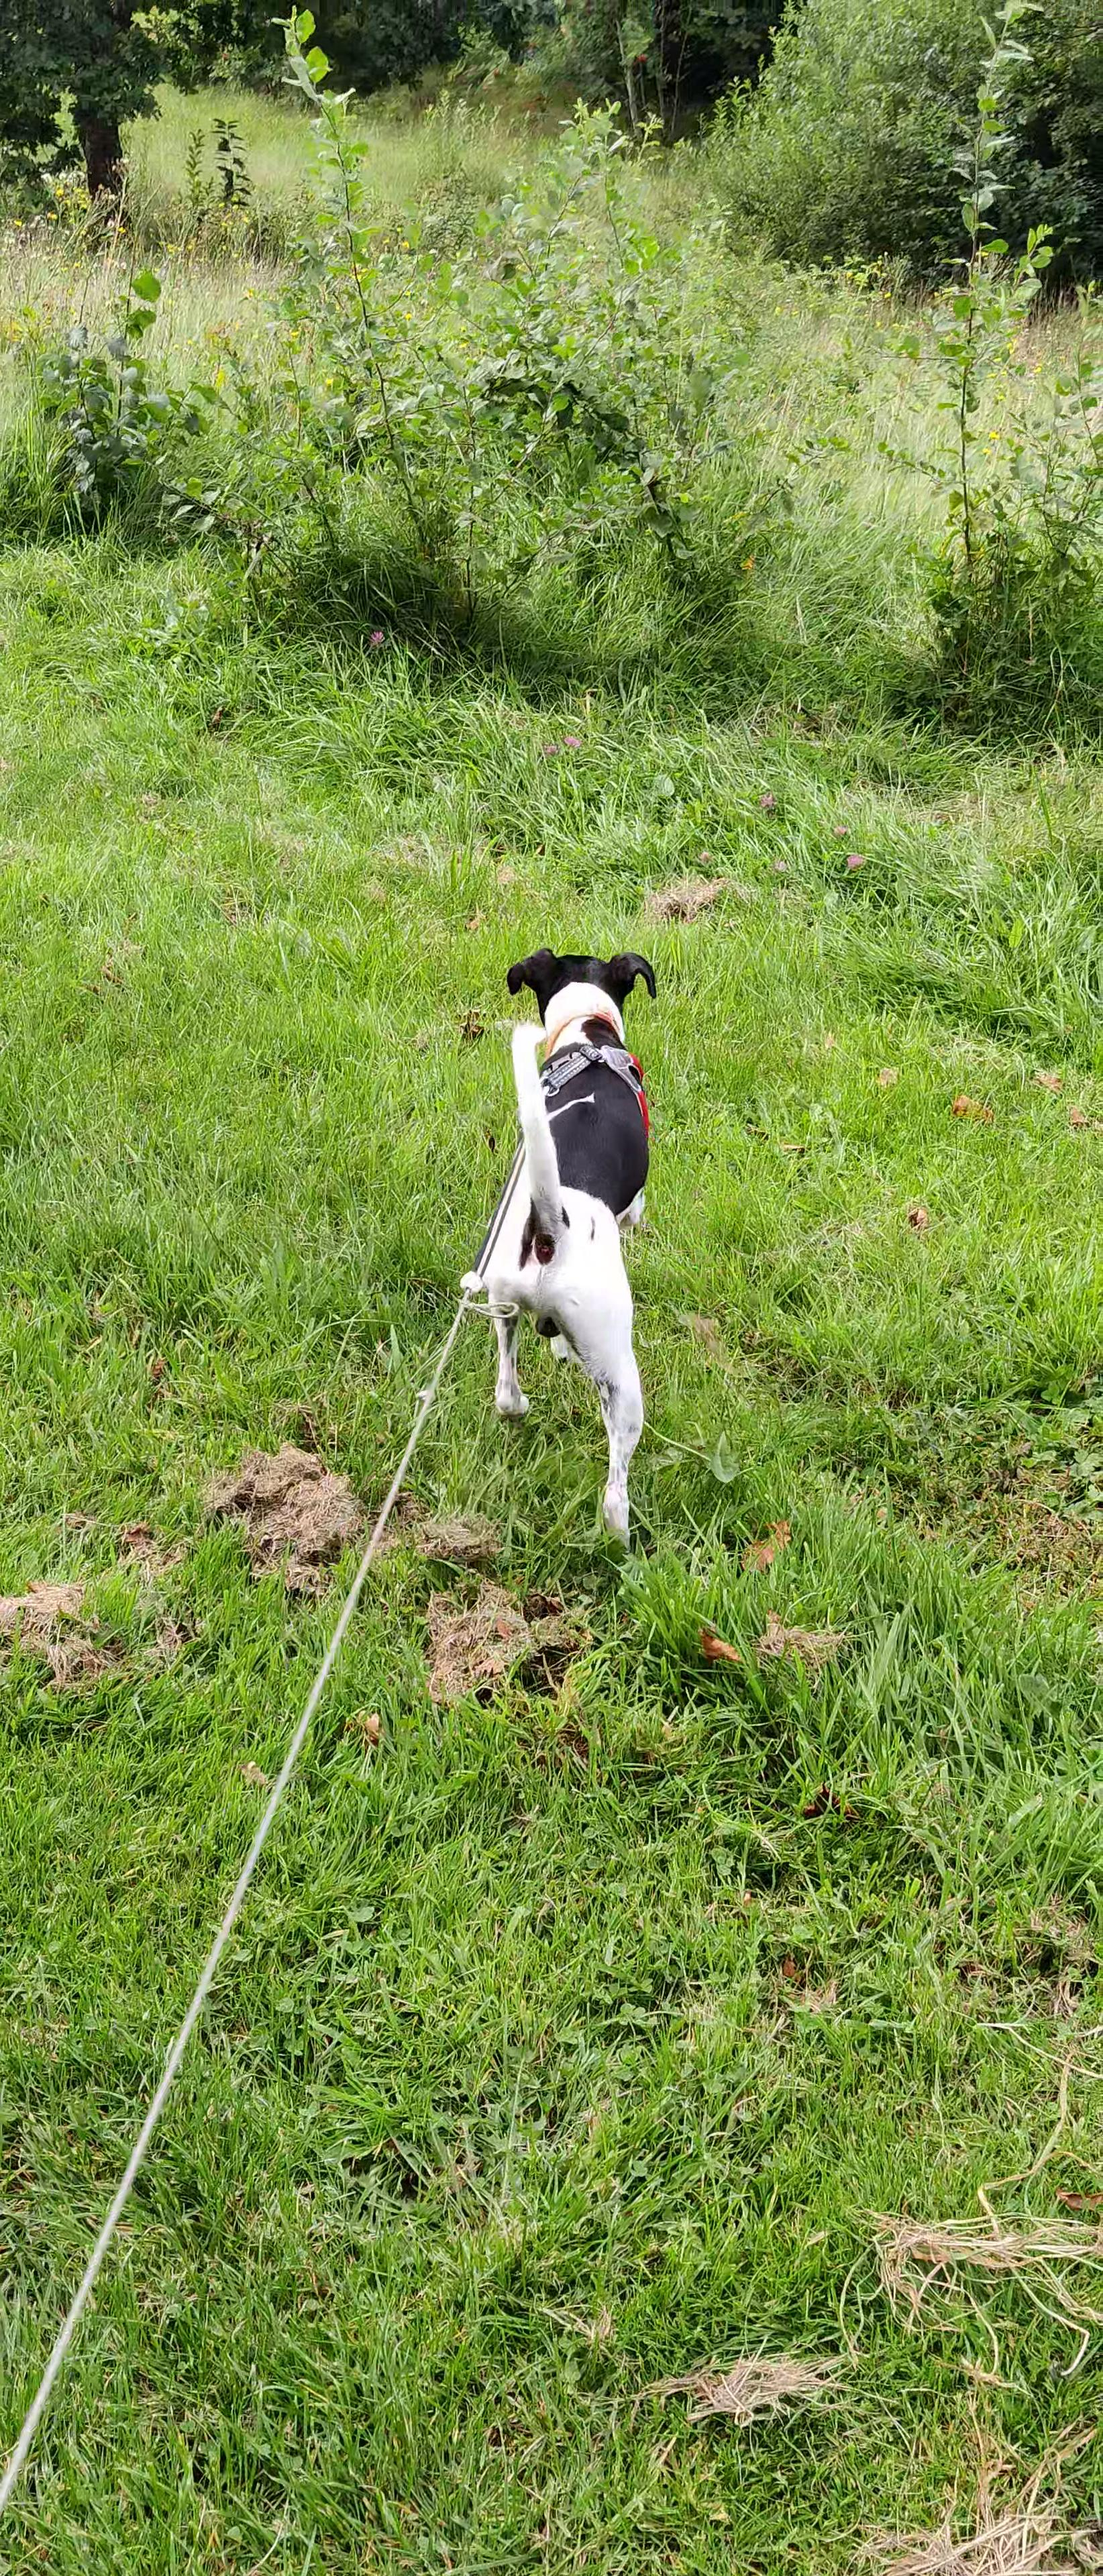Dog: (464, 938, 671, 1551)
